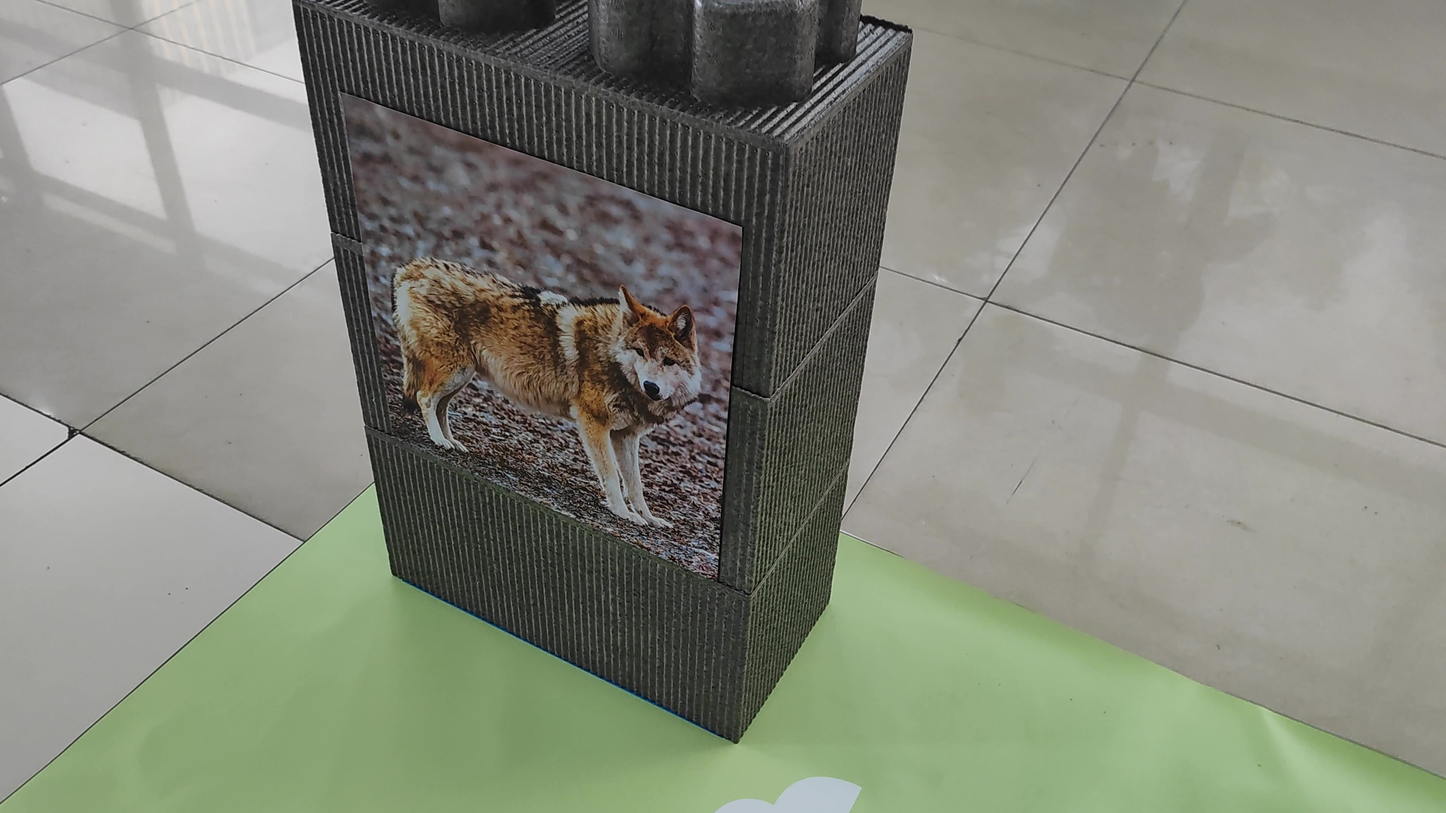wolf: (365, 124, 717, 536)
